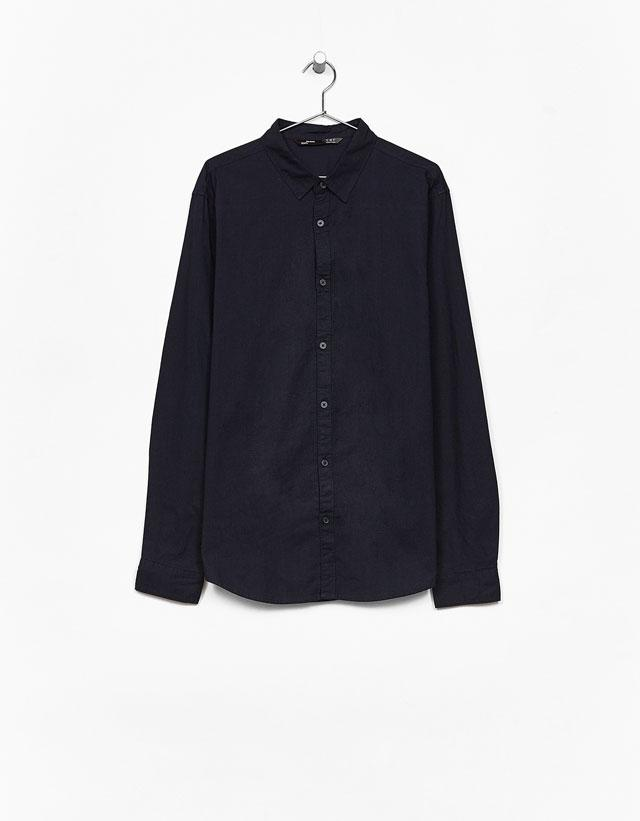teeshirt: (129, 115, 525, 637)
